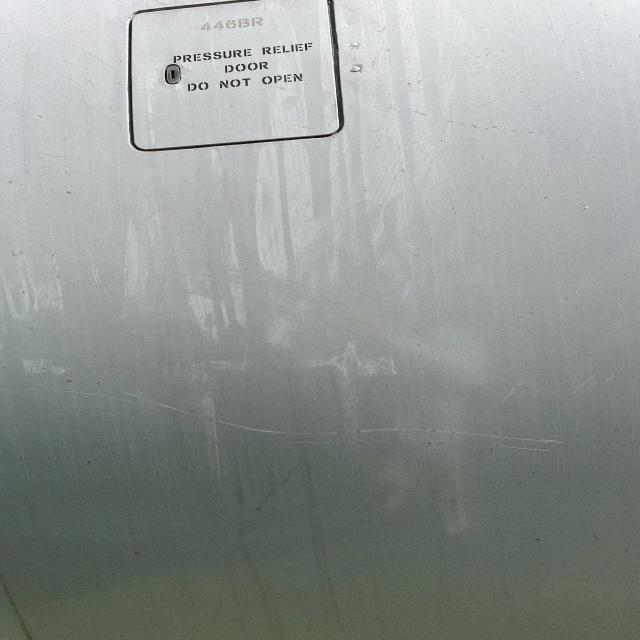crack: (367, 421, 569, 456)
